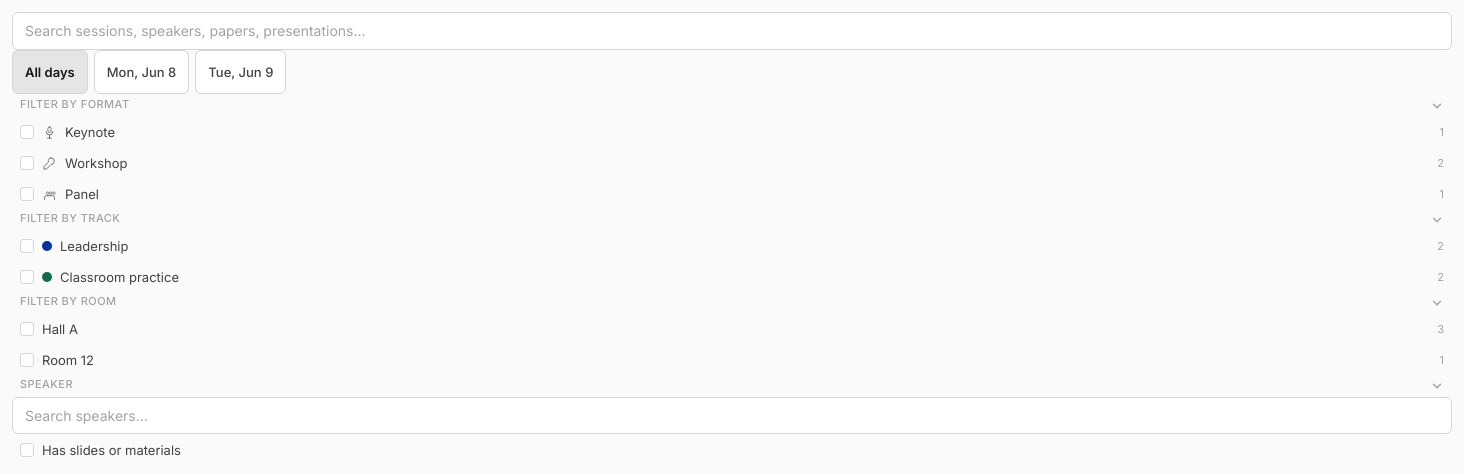
Test case: AgendaFilterRail — collapsing sections › collapses on click and hides its body
The width and height of the screenshot is (1464, 474).
Step 1. Click the button with class "agenda-filter-section-head" showing "Filter by room" → (68, 301), box [12,293,1452,313]
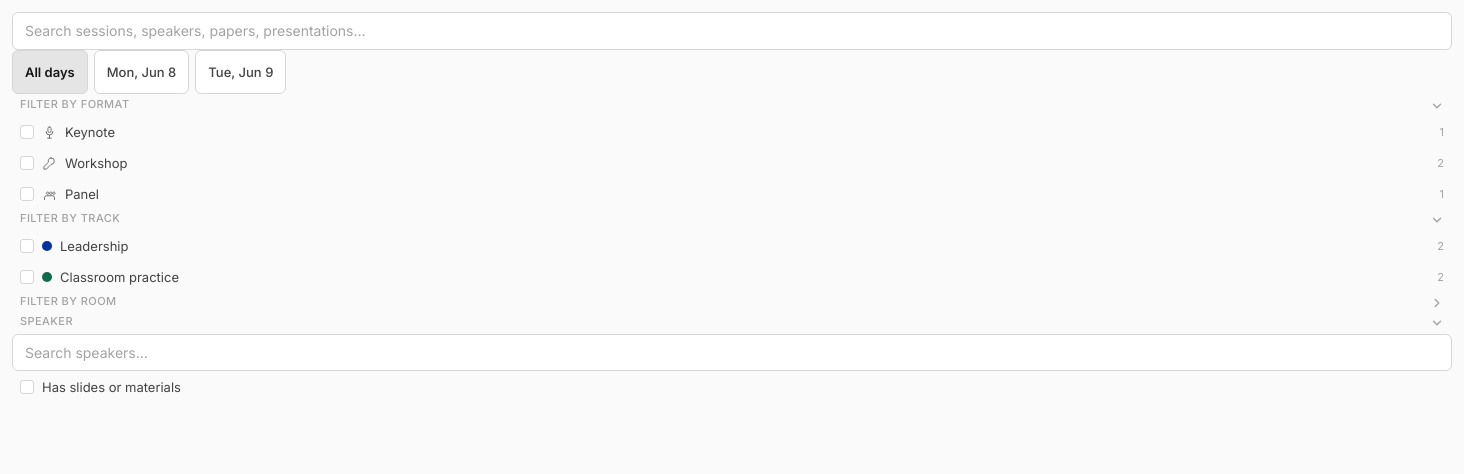
Result: the button with class "agenda-filter-section-head" is collapsed at [12,293,1452,313]
